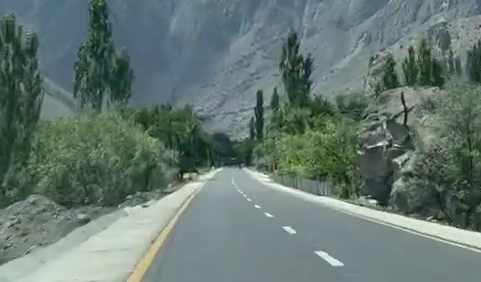left: (215, 171, 353, 281)
